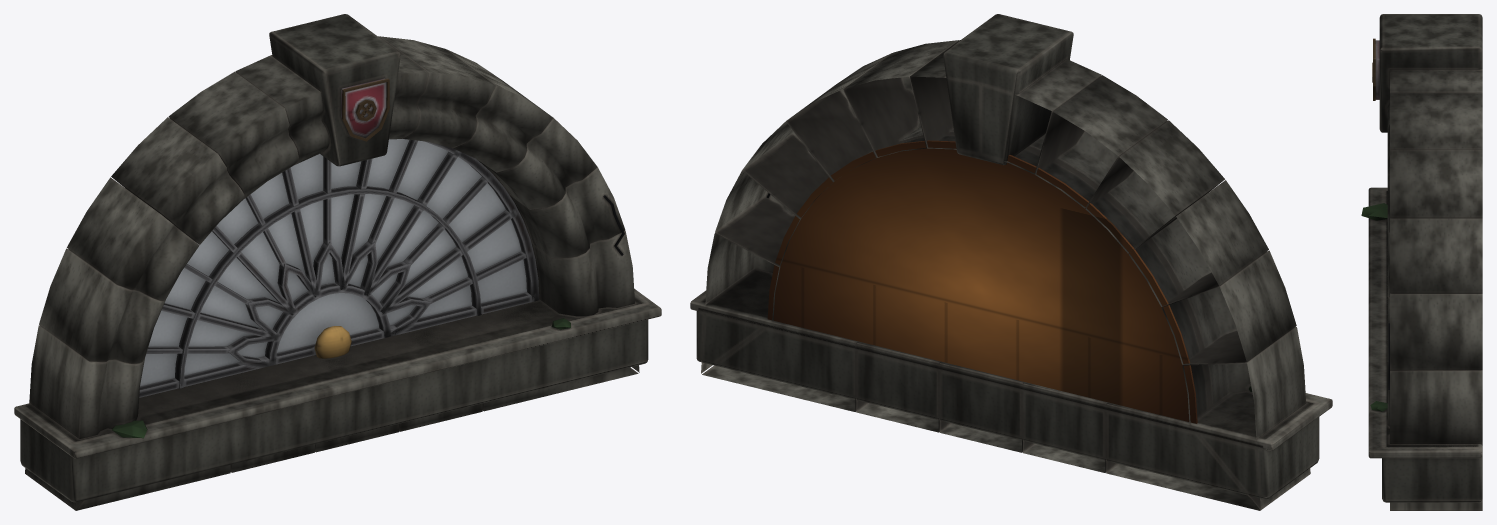
The model's file is Fanlight.fbx.
3 renders of one model, left to right at view 1: azimuth 30°, elevation 25°; view 2: azimuth 150°, elevation 25°; view 3: azimuth 270°, elevation 25°, orthographic. The views are drawn at different scales.
Parts seen in each view (by area): view 1: Fanlight_Main, Fanlight_Glass; view 2: Fanlight_Main, Fanlight_Room; view 3: Fanlight_Main.
Part boxes in pixels (x1,y1,x2,y2): Fanlight_Main: (14, 14, 661, 510); Fanlight_Glass: (140, 139, 526, 386); Fanlight_Main: (690, 14, 1332, 510); Fanlight_Room: (767, 140, 1197, 423); Fanlight_Main: (1361, 14, 1482, 510).
Size of the model in its own units: 560 by 350 by 108.
